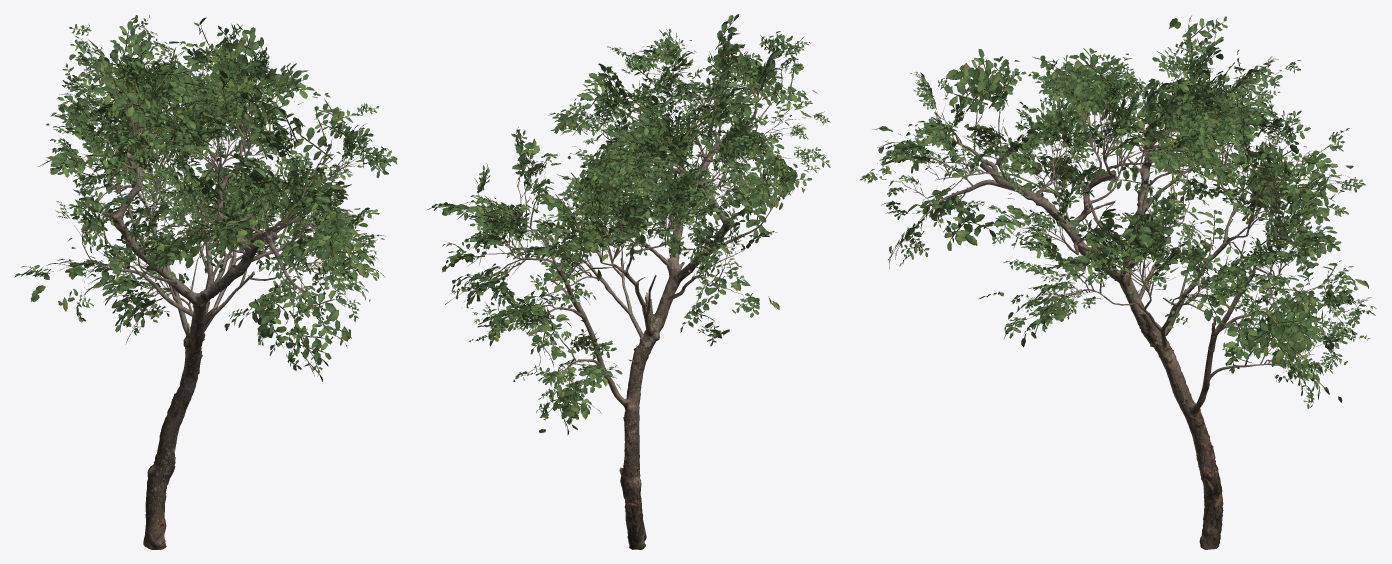
The model's file is arv4-perto.glb.
3 renders of one model, left to right at view 1: azimuth 30°, elevation 25°; view 2: azimuth 150°, elevation 25°; view 3: azimuth 270°, elevation 25°, orthographic. The views are drawn at different scales.
Visible parts, largest first — view 1: tree_small_02_LOD0; view 2: tree_small_02_LOD0; view 3: tree_small_02_LOD0.
Part boxes in pixels (<box>): tree_small_02_LOD0: <box>14,15,397,549</box>; tree_small_02_LOD0: <box>426,14,830,549</box>; tree_small_02_LOD0: <box>859,15,1376,549</box>.
Bounding box in the file's own units: 2.93 × 4.6 × 4.33.
Materials: 3 (3 with a texture image).
